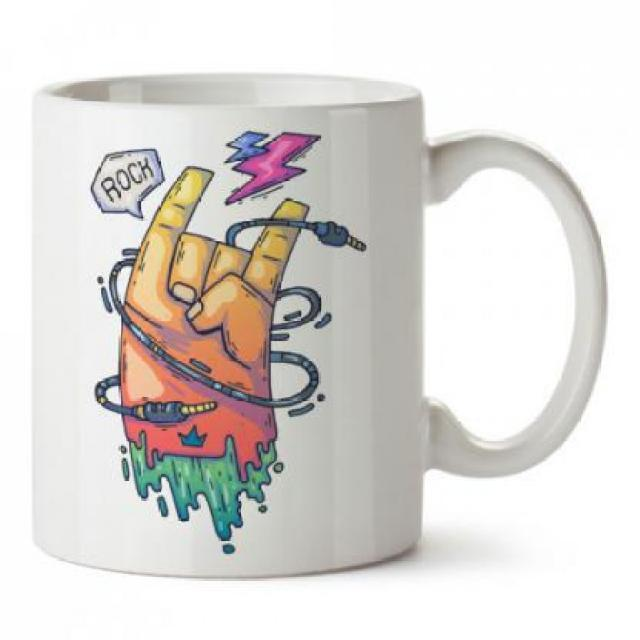taza: (17, 60, 616, 587)
